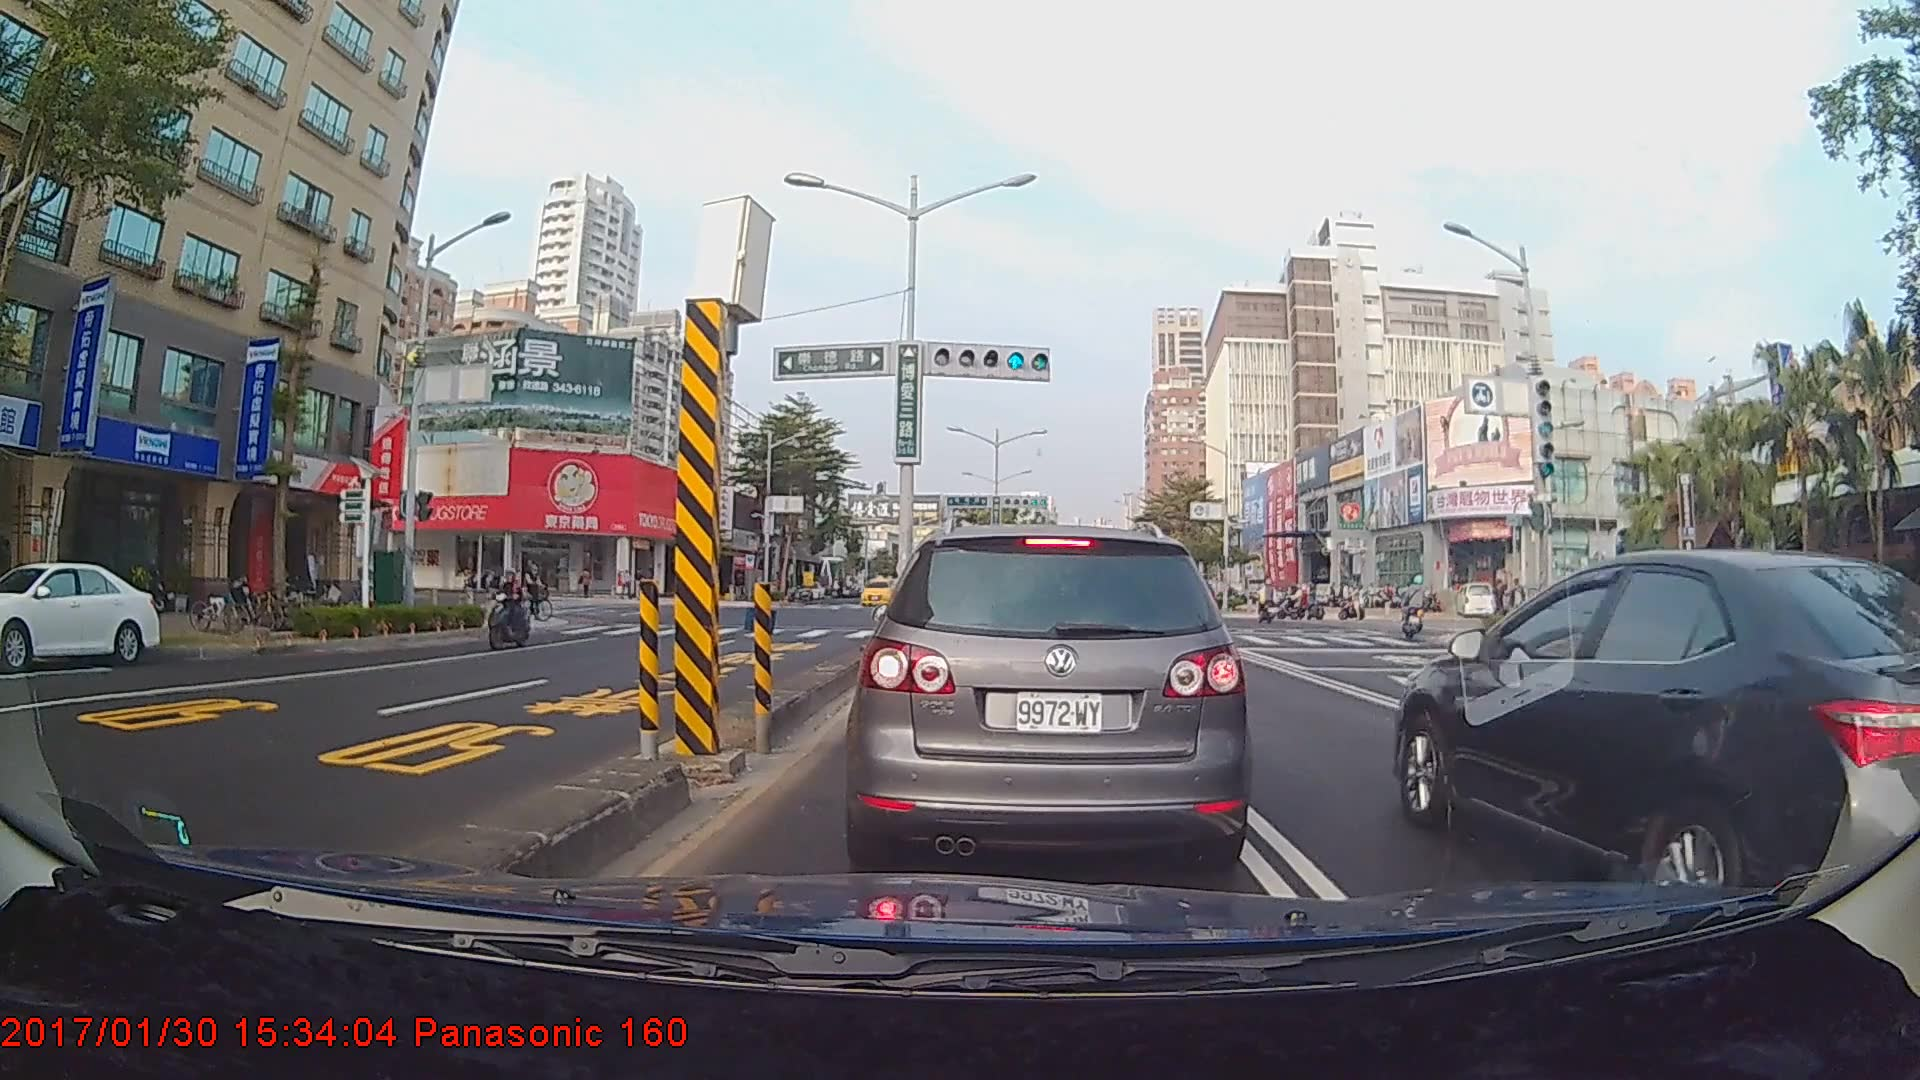rider: (483, 565, 537, 654), (518, 559, 561, 622), (1395, 573, 1435, 641), (1248, 574, 1277, 631)
vehicle: (1388, 537, 1920, 899), (854, 519, 1246, 872), (0, 561, 162, 671), (858, 577, 895, 606)
